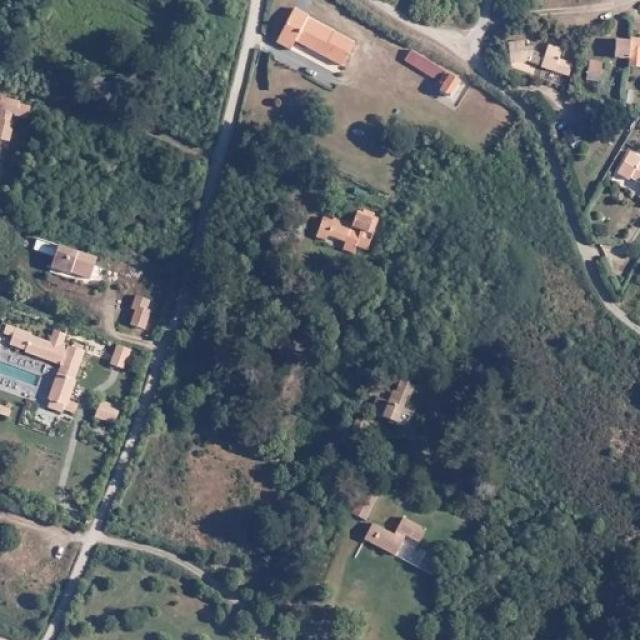maison: (340, 468, 426, 567), (265, 5, 354, 79), (533, 39, 624, 85), (393, 42, 456, 101), (312, 199, 378, 254), (35, 234, 107, 283), (0, 92, 32, 187), (374, 379, 416, 429)
piscine: (0, 356, 40, 391)
villa: (0, 316, 90, 425)
